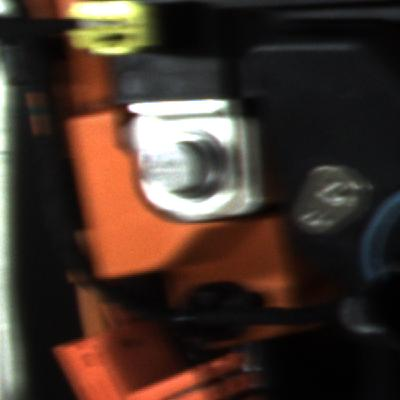nut_b: (145, 131, 232, 201)
